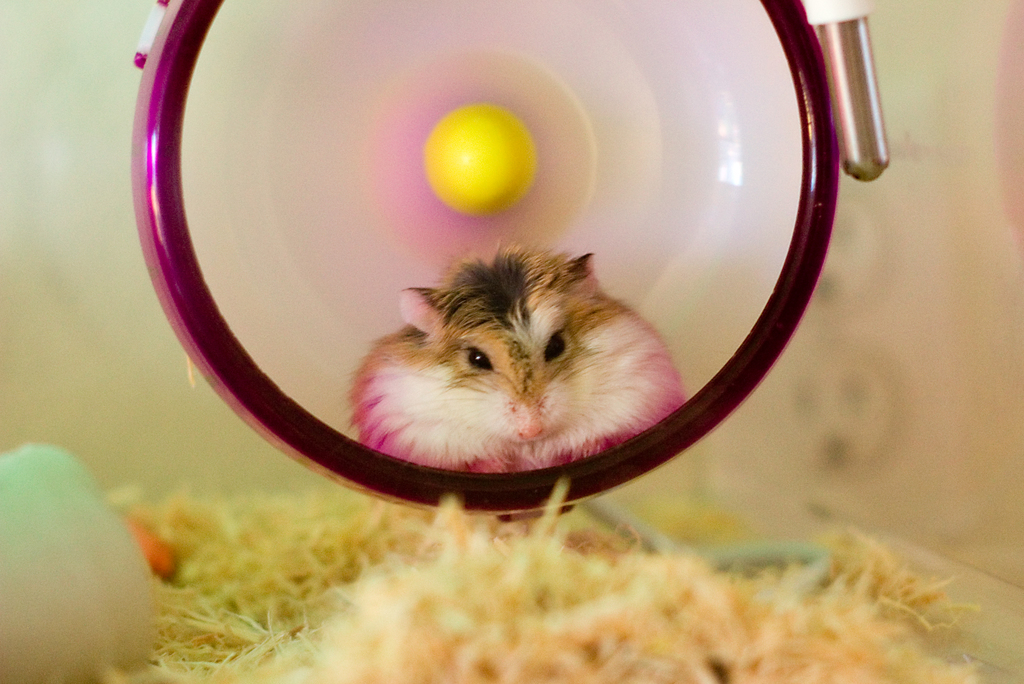Ball: (426, 102, 536, 209)
